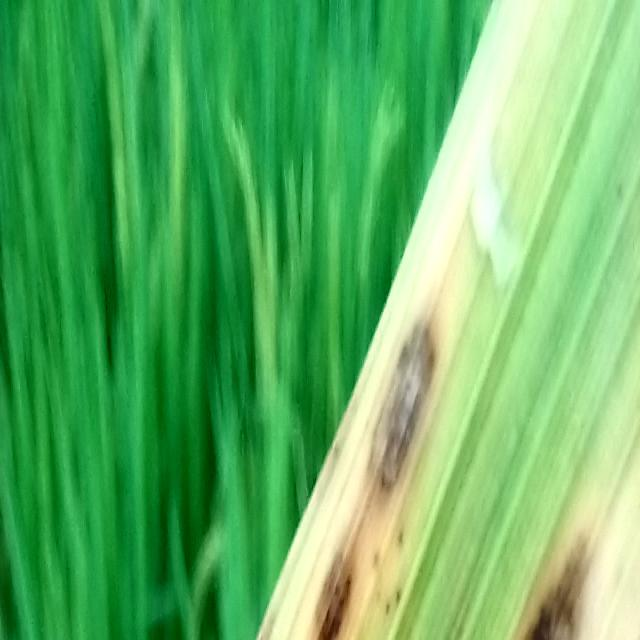LEAF BLAST: (368, 317, 436, 502), (524, 540, 587, 640)
